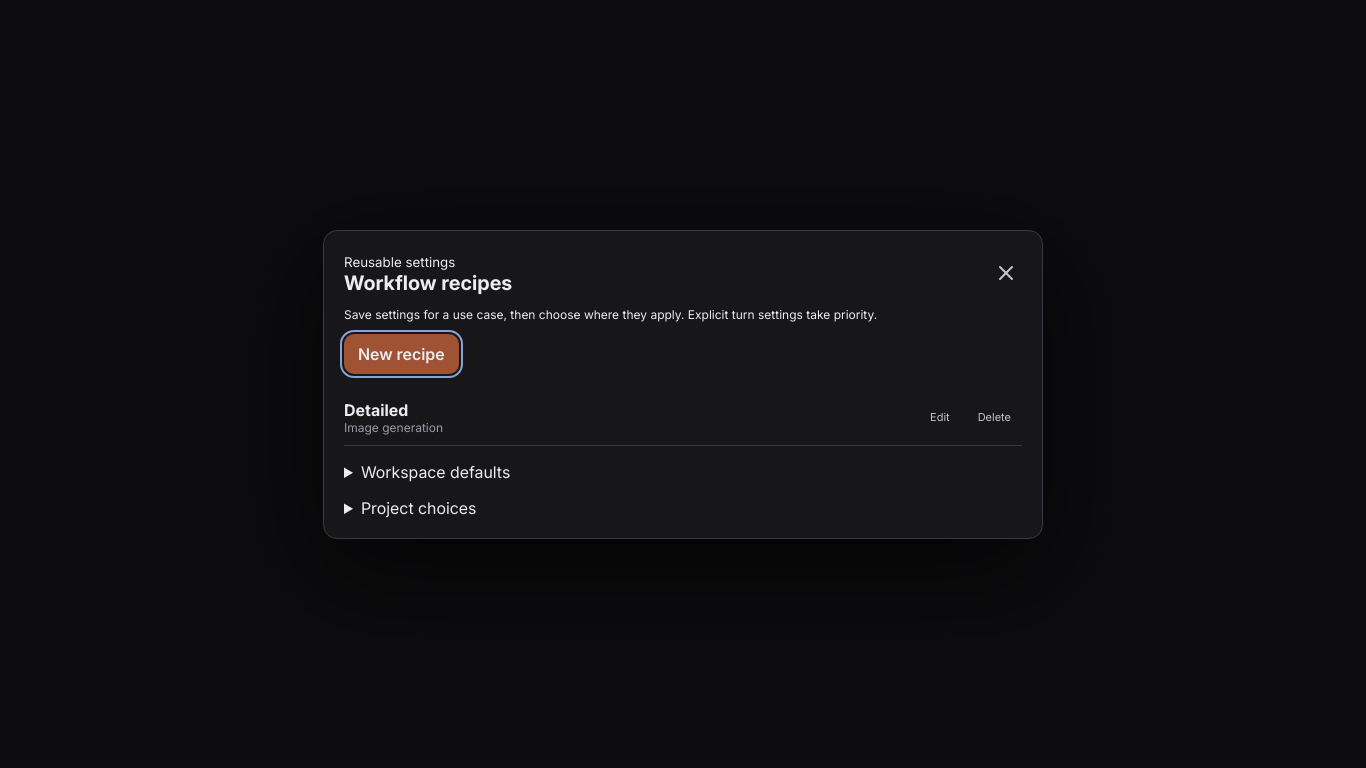
Test case: creates and edits recipes and refreshes the visible list after each save
Expected: the button with aria-label "Edit recipe Detailed" is shown, [919,402,961,432]
Click the button "New recipe" at (401, 354), box [344,334,459,374]
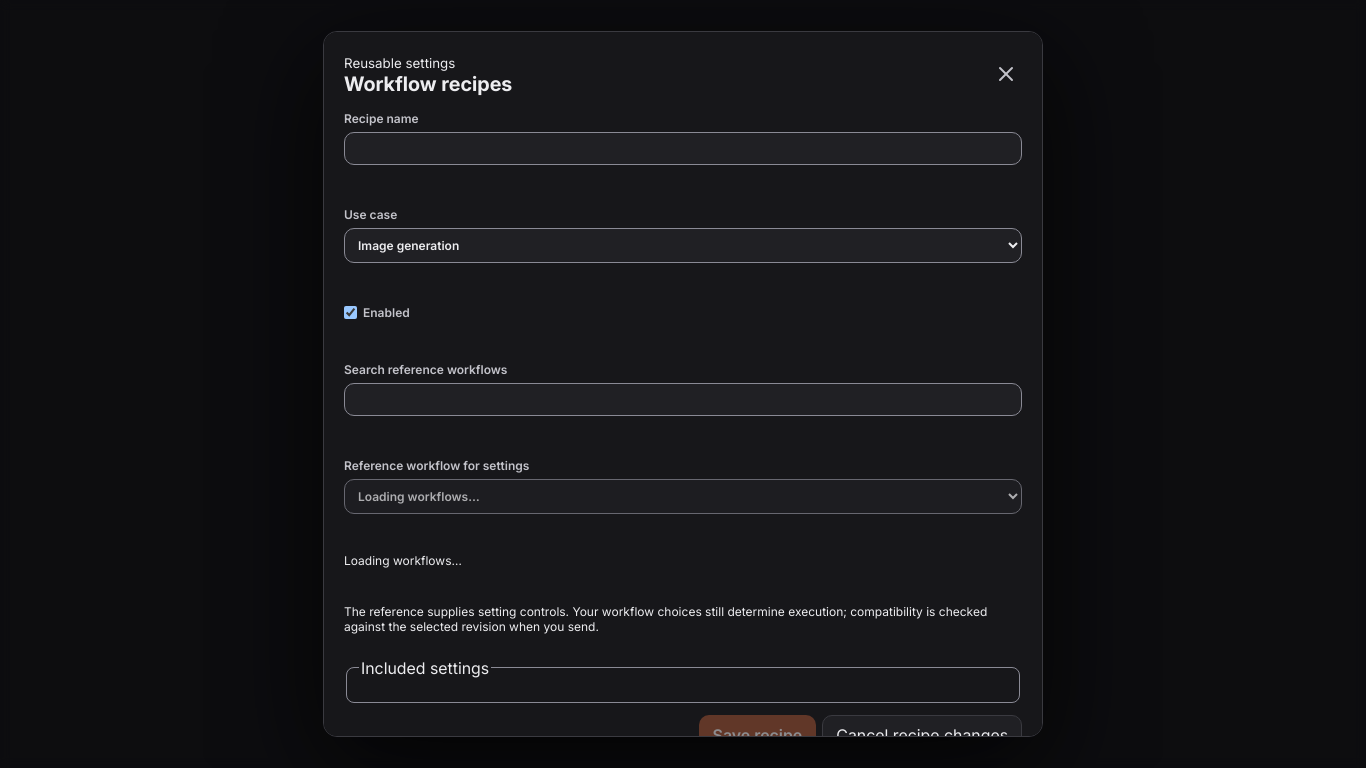
Type "Another recipe" into the field labelled "Recipe name" at (683, 148), box [344,132,1022,165]
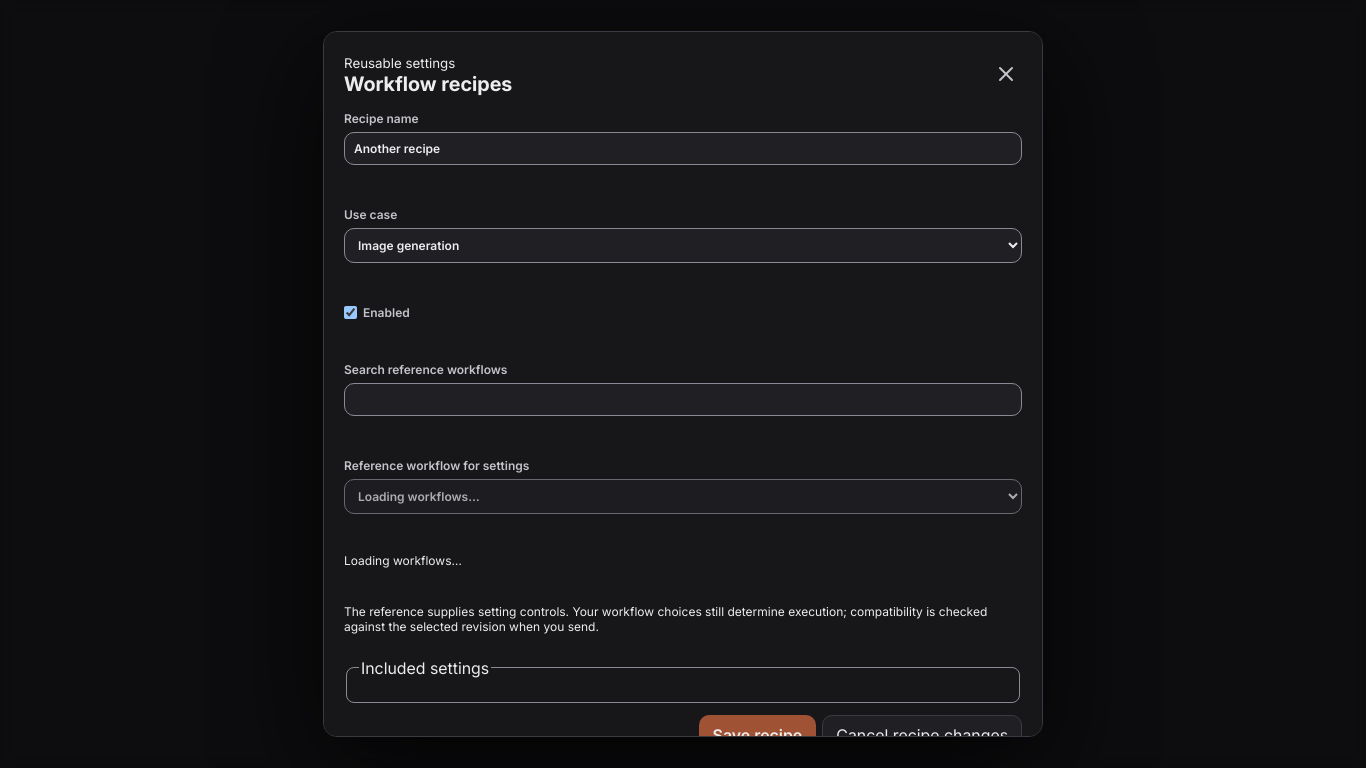
Click the button "Save recipe" at (757, 735), box [698,715,816,755]
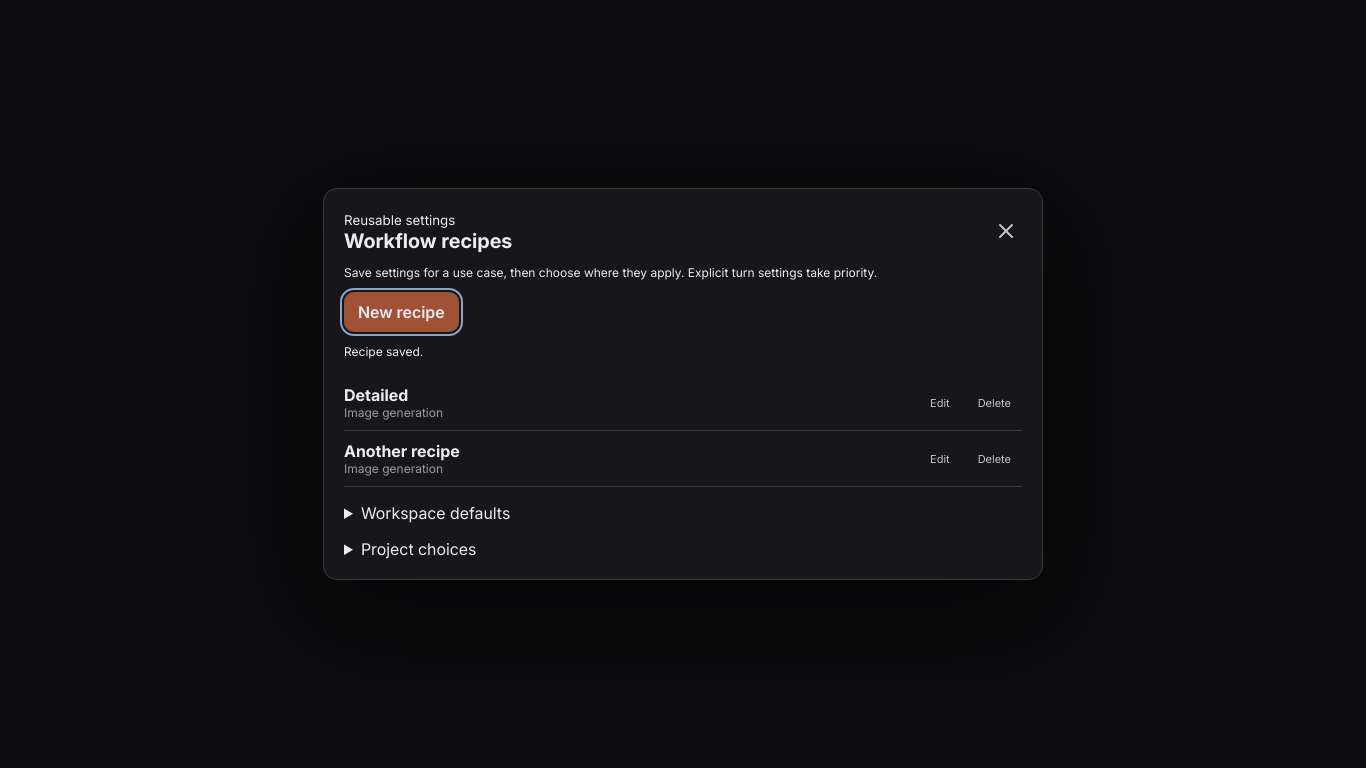
Now the button with aria-label "Edit recipe Another recipe" is shown
Click the button with aria-label "Edit recipe Another recipe" at (940, 458), box [919,444,961,474]
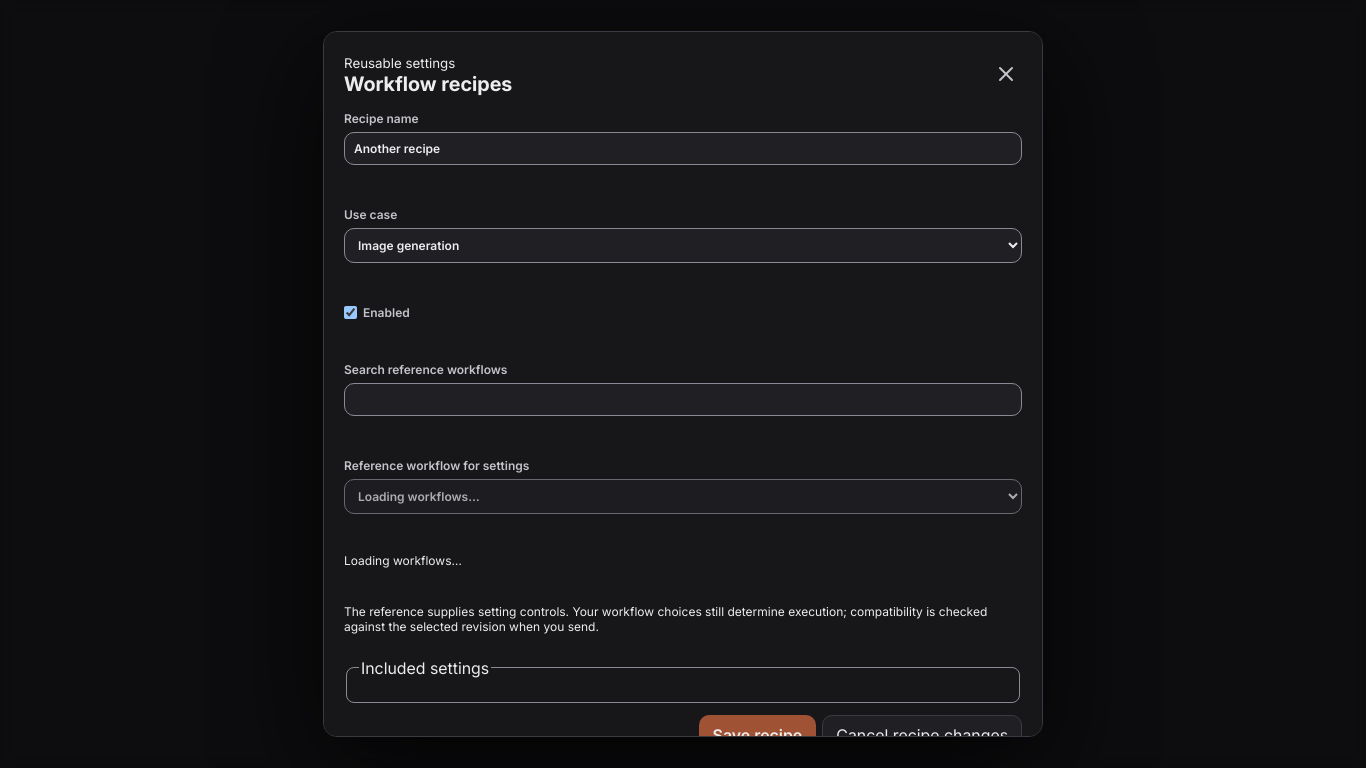
Replace the text in the field labelled "Recipe name" with "Renamed" at (683, 148), box [344,132,1022,165]
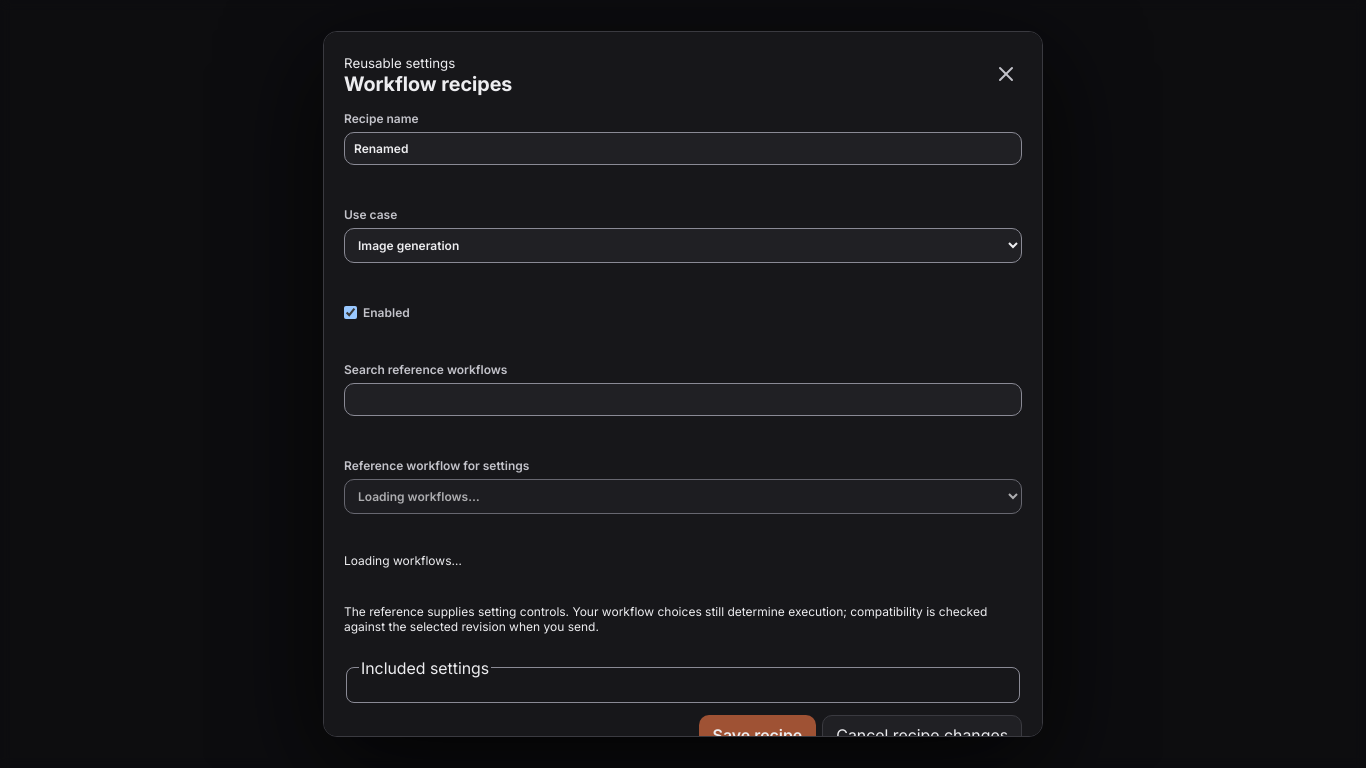
Click the button "Save recipe" at (757, 735), box [698,715,816,755]
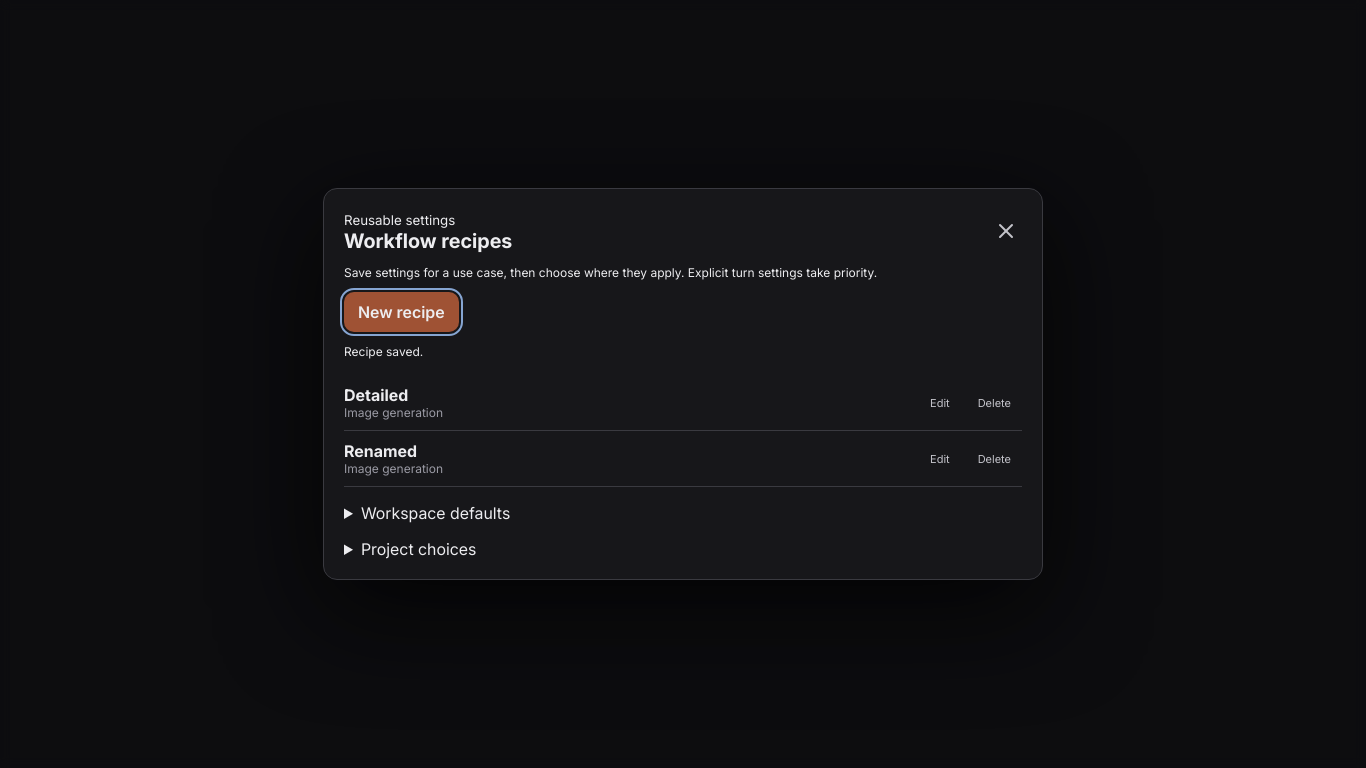
Now the button with aria-label "Edit recipe Renamed" is shown, box [919,444,961,474]
